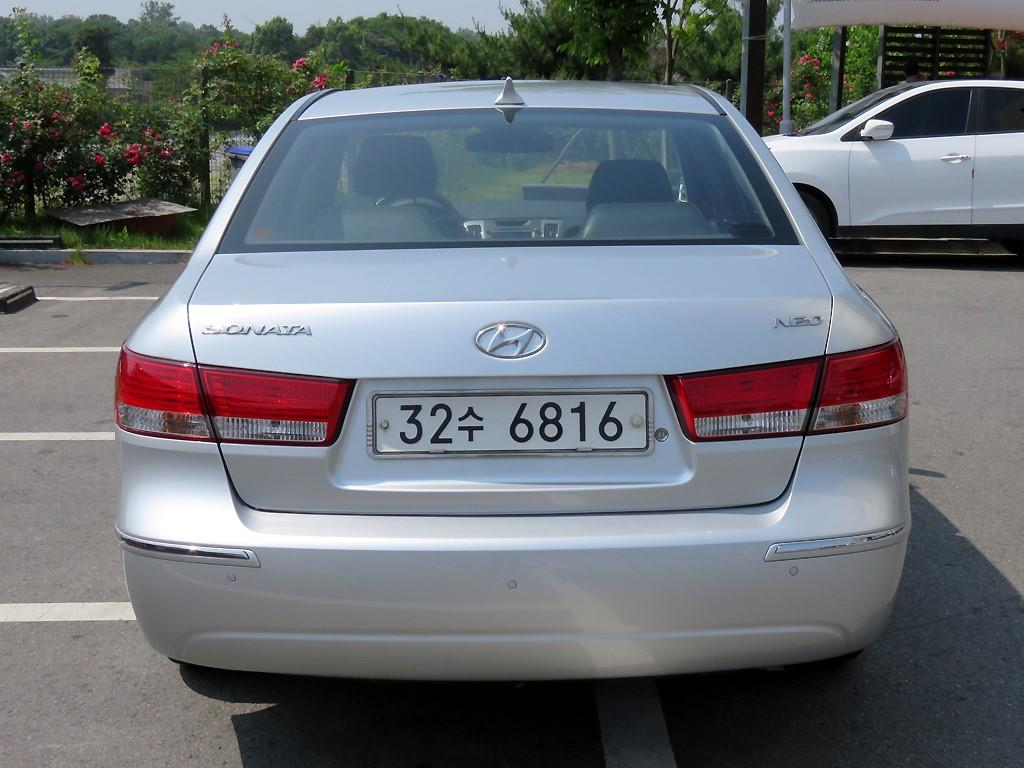plate: (375, 394, 647, 452)
